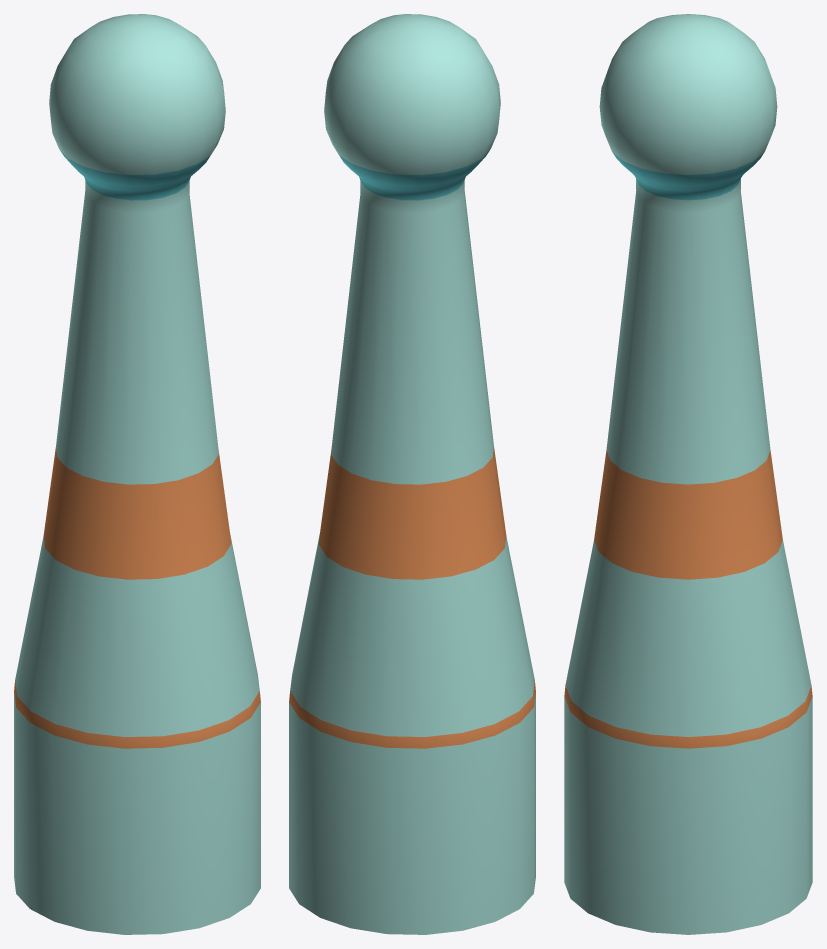
Rendered from pole.glb.
3 renders of one model, left to right at view 1: azimuth 30°, elevation 25°; view 2: azimuth 150°, elevation 25°; view 3: azimuth 270°, elevation 25°, orthographic.
Visible parts, largest first — view 1: Cylinder; view 2: Cylinder; view 3: Cylinder.
Part boxes in pixels (x1,y1,x2,y2): Cylinder: (14,14,260,934); Cylinder: (289,14,535,934); Cylinder: (564,14,812,934).
Size of the model in its own units: 11.88 by 45.45 by 11.88.
1 material, 1 textured.
